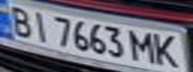3: (103, 24, 127, 60)
6: (84, 21, 109, 56), (66, 18, 90, 52)
7: (48, 14, 75, 47)
B: (3, 2, 36, 38)
I: (24, 9, 54, 42)
K: (151, 30, 184, 70)
M: (127, 28, 160, 64)
